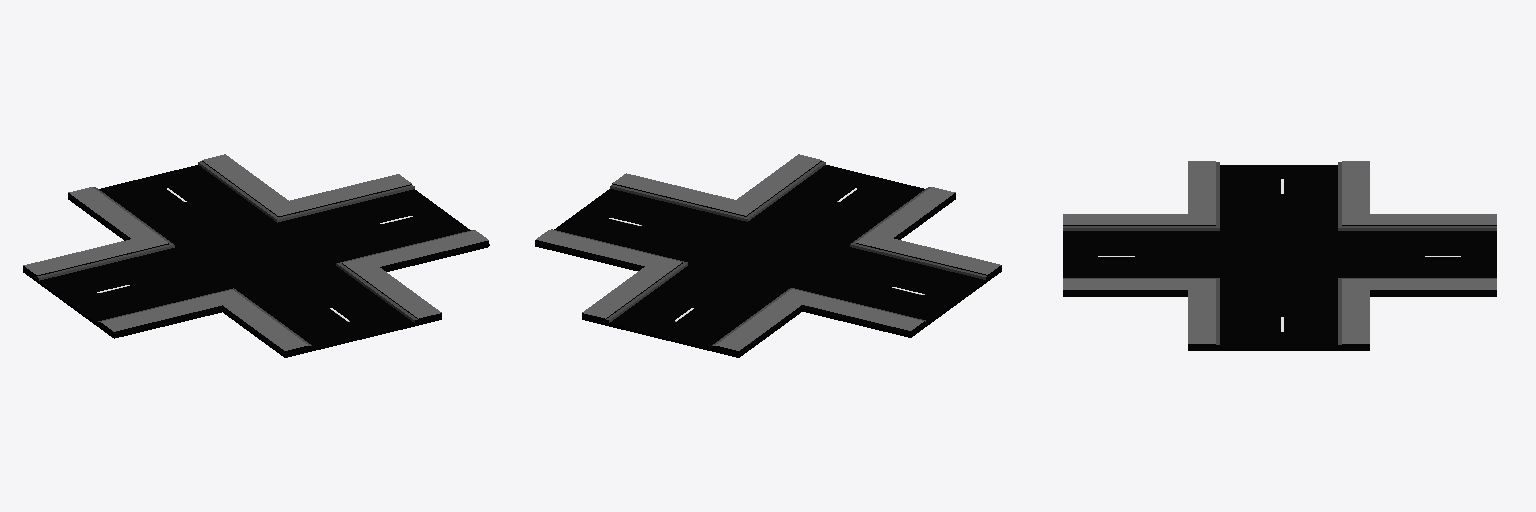
The model's file is road4intersection.obj.
3 views of the same model, side by side, from view 1: azimuth 30°, elevation 25°; view 2: azimuth 150°, elevation 25°; view 3: azimuth 270°, elevation 25° (orthographic).
Parts seen in each view (by area): view 1: Road, trot001, borrder, NOColider; view 2: Road, trot001, borrder, NOColider; view 3: Road, trot001, borrder, NOColider.
Boxes of the visible parts, x1=… form: Road: x1=39, y1=165, x2=489, y2=355; trot001: x1=23, y1=154, x2=488, y2=350; borrder: x1=37, y1=161, x2=474, y2=345; NOColider: x1=23, y1=161, x2=488, y2=357; Road: x1=536, y1=165, x2=985, y2=355; trot001: x1=536, y1=154, x2=1000, y2=350; borrder: x1=551, y1=161, x2=986, y2=345; NOColider: x1=535, y1=161, x2=1001, y2=357; Road: x1=1063, y1=165, x2=1496, y2=349; trot001: x1=1063, y1=161, x2=1496, y2=343; borrder: x1=1063, y1=162, x2=1496, y2=344; NOColider: x1=1063, y1=225, x2=1496, y2=350.
Bounding box in the file's own units: 239 × 4.23 × 239.